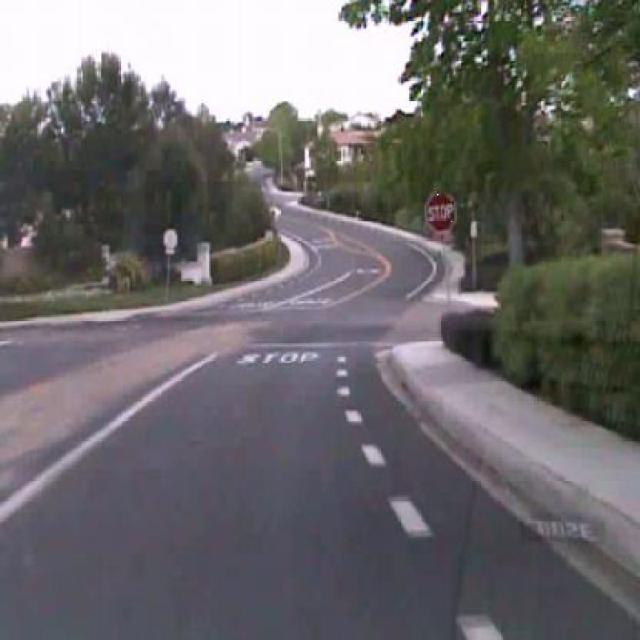stop: (423, 188, 457, 235)
